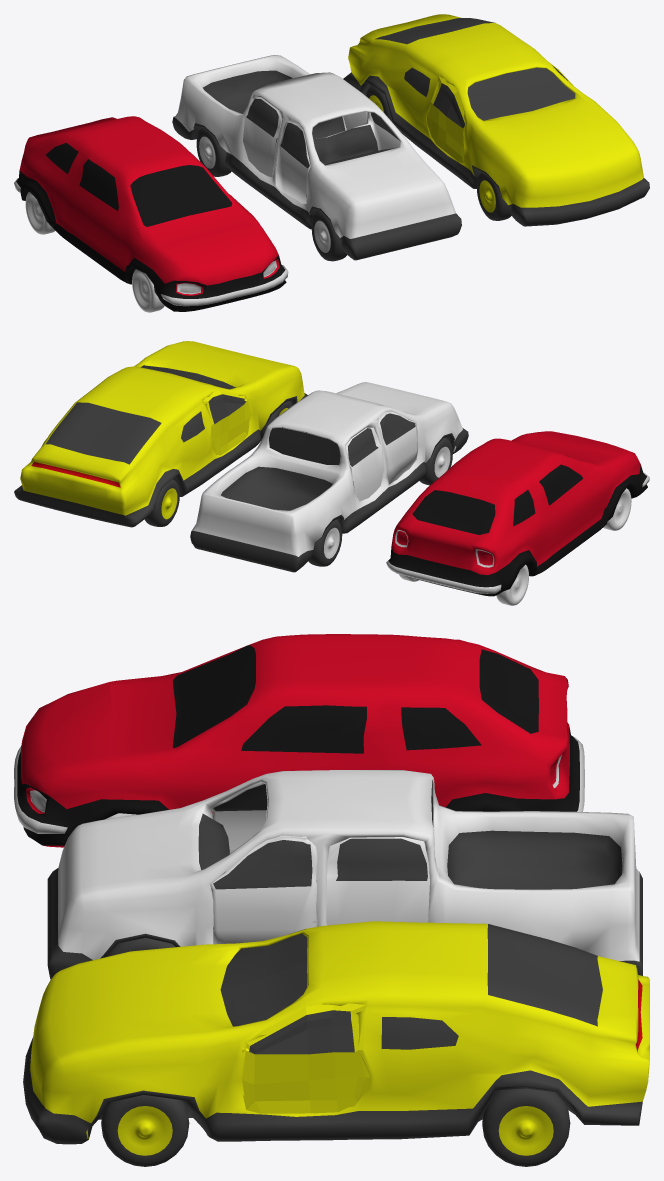
File: PACK_CAR.fbx
3 renders of one model, top to bottom at view 1: azimuth 30°, elevation 25°; view 2: azimuth 150°, elevation 25°; view 3: azimuth 270°, elevation 25°, orthographic. The views are drawn at different scales.
Parts seen in each view (by area): view 1: CARRO2, CARRO, CARRO2.001, PORTA, PORTA2, RODA2.001, RODA2, roda2, roda4, PORTA1; view 2: CARRO2, CARRO2.001, CARRO, PORTA, PORTA2, RODA3, RODA2.001, roda4, roda2; view 3: CARRO2, CARRO, CARRO2.001, PORTA, PORTA1, RODA3, RODA1, PORTA2.
Boxes of the visible parts, x1=… form: CARRO2: x1=343, y1=14, x2=649, y2=226; CARRO: x1=14, y1=116, x2=288, y2=311; CARRO2.001: x1=172, y1=55, x2=461, y2=260; PORTA: x1=425, y1=61, x2=573, y2=163; PORTA2: x1=276, y1=119, x2=310, y2=203; RODA2.001: x1=311, y1=211, x2=346, y2=261; RODA2: x1=477, y1=173, x2=511, y2=220; roda2: x1=132, y1=269, x2=164, y2=312; roda4: x1=25, y1=192, x2=55, y2=234; PORTA1: x1=369, y1=112, x2=400, y2=150; CARRO2: x1=14, y1=341, x2=307, y2=527; CARRO2.001: x1=190, y1=382, x2=468, y2=572; CARRO: x1=386, y1=431, x2=649, y2=596; PORTA: x1=202, y1=390, x2=249, y2=455; PORTA2: x1=378, y1=411, x2=417, y2=484; RODA3: x1=144, y1=479, x2=179, y2=526; RODA2.001: x1=419, y1=437, x2=452, y2=485; roda4: x1=496, y1=564, x2=528, y2=605; roda2: x1=603, y1=488, x2=631, y2=530; CARRO2: x1=23, y1=921, x2=649, y2=1144; CARRO: x1=14, y1=634, x2=584, y2=847; CARRO2.001: x1=47, y1=770, x2=642, y2=979; PORTA: x1=242, y1=928, x2=372, y2=1113; PORTA1: x1=210, y1=835, x2=317, y2=944; RODA3: x1=482, y1=1088, x2=570, y2=1166; RODA1: x1=101, y1=1095, x2=189, y2=1166; PORTA2: x1=210, y1=782, x2=267, y2=853.
Bounding box in the file's own units: 415 × 88.92 × 281.
